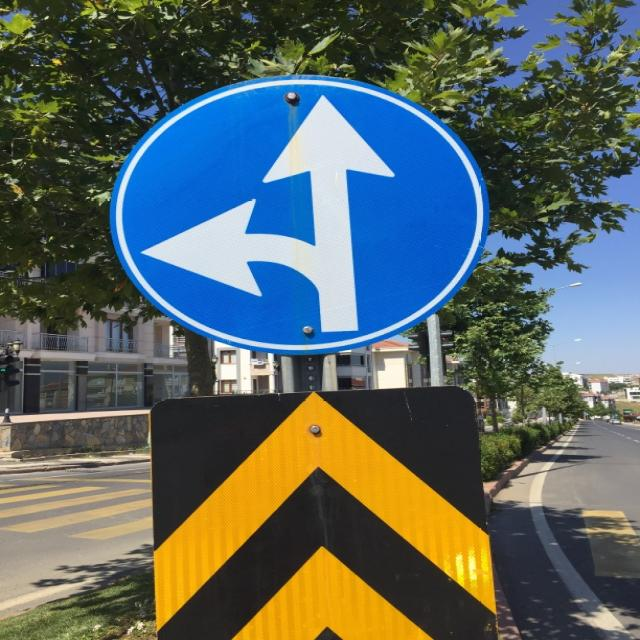ilerisol: (110, 74, 489, 356)
